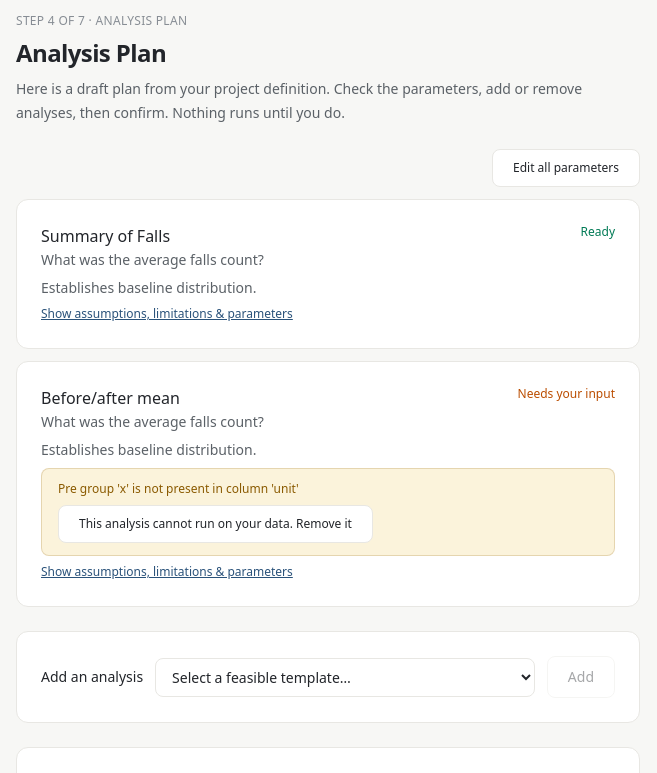
AnalysisPlanStage with the advisor off › puts a visible Remove button next to an analysis that cannot run
What coordinates should you click on to do the following:
click the button "This analysis cannot run on your data. Remove it"
I would click on:
 (215, 524)
Its box is [58,505,373,543].
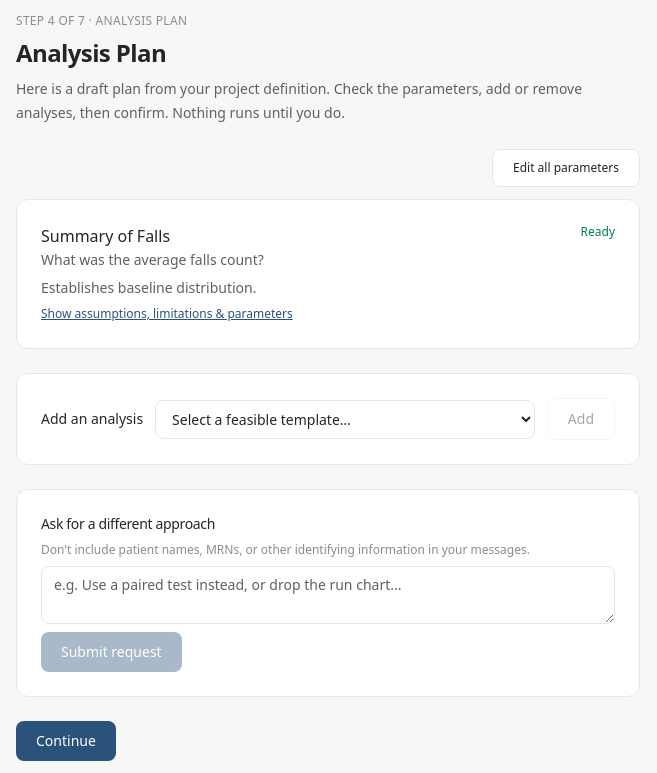
Expected: the text "Before/after mean" is gone
Expected: the button "Continue" is enabled, [16,721,116,761]
